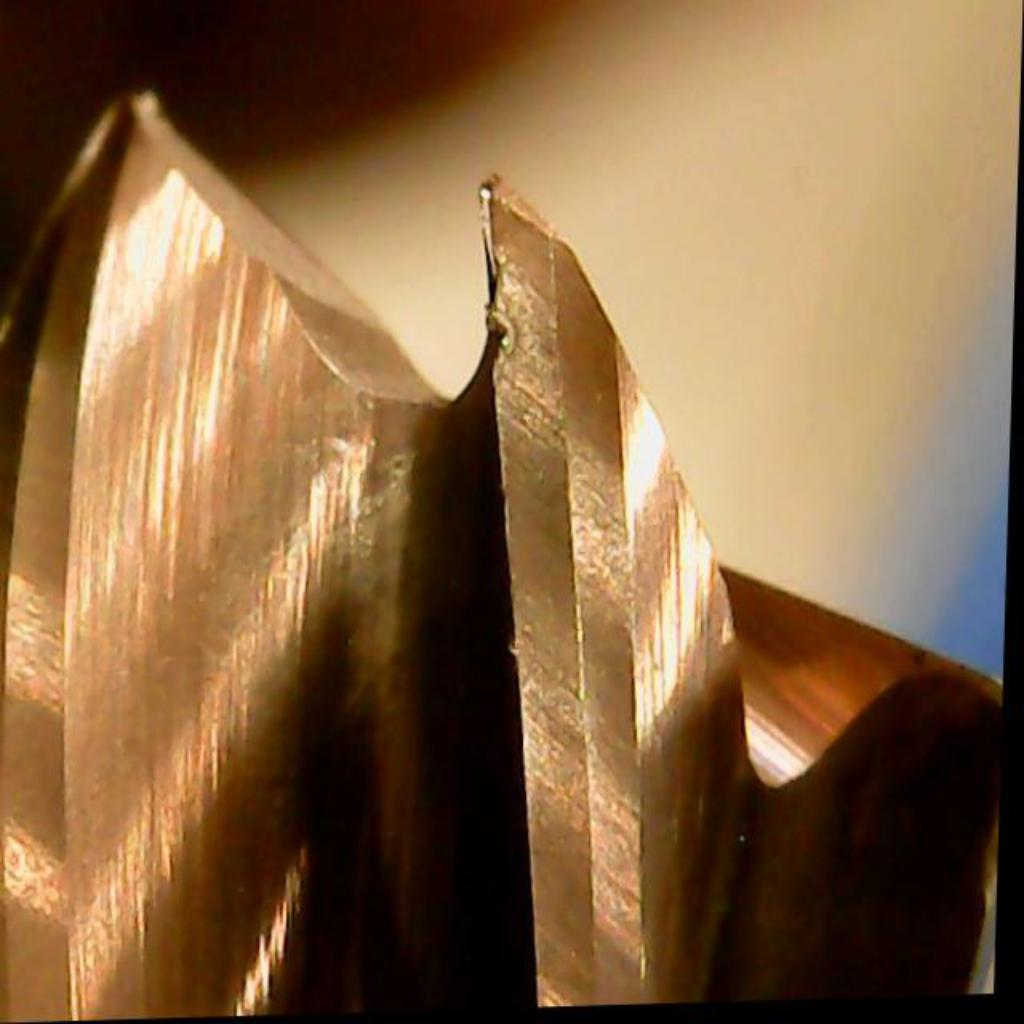Tool-wear-class-1: (447, 173, 679, 645)
